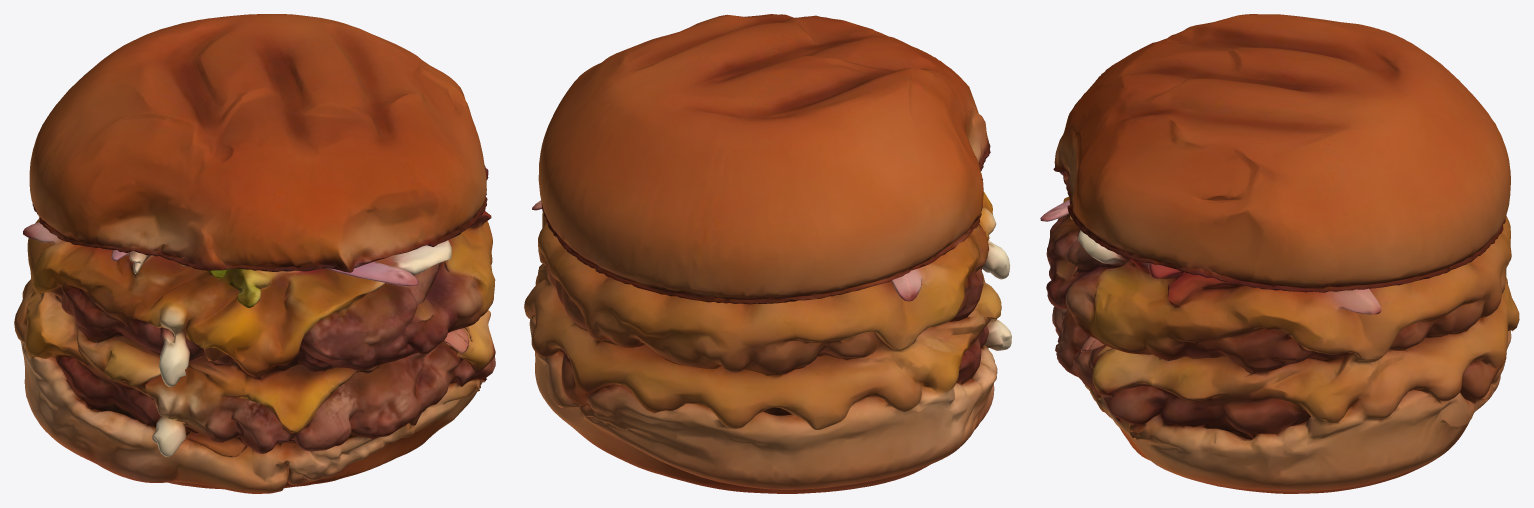
File: doble.glb
The picture shows the model from 3 angles, left to right: view 1: azimuth 30°, elevation 25°; view 2: azimuth 150°, elevation 25°; view 3: azimuth 270°, elevation 25°; orthographic projection.
Parts seen in each view (by area): view 1: tripo_node_dd76dea9-2bea-44ad-bd23-3e573f14a701; view 2: tripo_node_dd76dea9-2bea-44ad-bd23-3e573f14a701; view 3: tripo_node_dd76dea9-2bea-44ad-bd23-3e573f14a701.
Boxes of the visible parts, x1,y1,x2,y2 form: tripo_node_dd76dea9-2bea-44ad-bd23-3e573f14a701: (14, 14, 495, 493); tripo_node_dd76dea9-2bea-44ad-bd23-3e573f14a701: (524, 14, 1011, 493); tripo_node_dd76dea9-2bea-44ad-bd23-3e573f14a701: (1040, 14, 1519, 493).
Bounding box in the file's own units: 0.9746 × 0.793 × 0.9809.
1 material, 1 textured.
